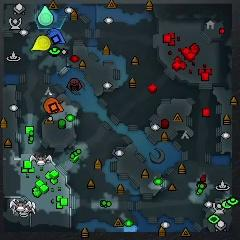p1: (48, 27, 67, 44)
p2: (38, 5, 54, 27)
p4: (31, 34, 49, 51)
p5: (44, 97, 65, 114)
